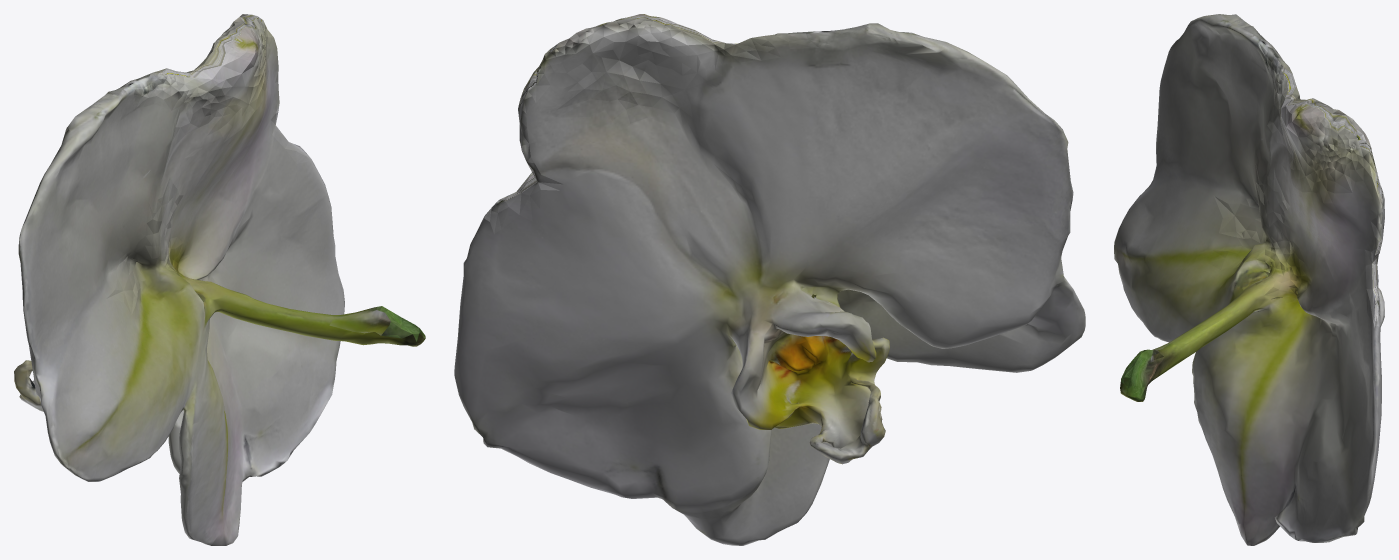
The model's file is kocoran-w-parts.glb.
3 views of the same model, side by side, from view 1: azimuth 30°, elevation 25°; view 2: azimuth 150°, elevation 25°; view 3: azimuth 270°, elevation 25° (orthographic). The views are drawn at different scales.
Visible parts, largest first — view 1: kochoranw-01; view 2: kochoranw-01; view 3: kochoranw-01.
Boxes of the visible parts, x1,y1,x2,y2 form: kochoranw-01: (14, 14, 425, 545); kochoranw-01: (454, 14, 1085, 545); kochoranw-01: (1114, 14, 1384, 545).
Size of the model in its own units: 1.01 by 1.07 by 0.5704.
1 material, 1 textured.
